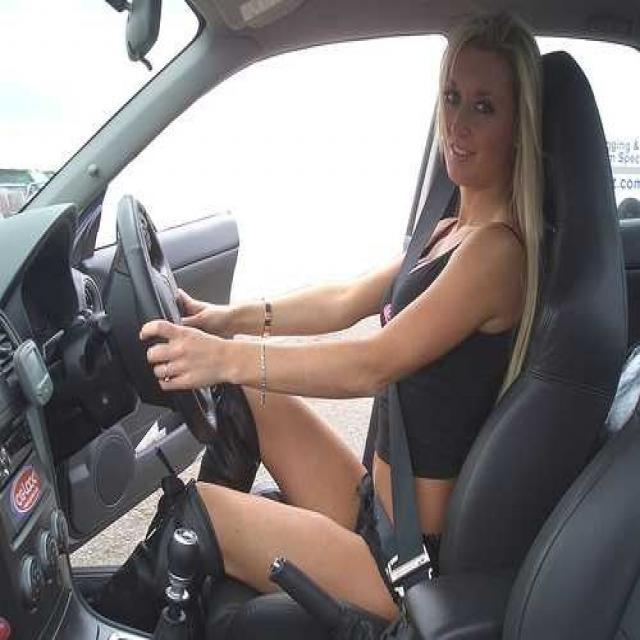seatbelt: (362, 157, 456, 601)
